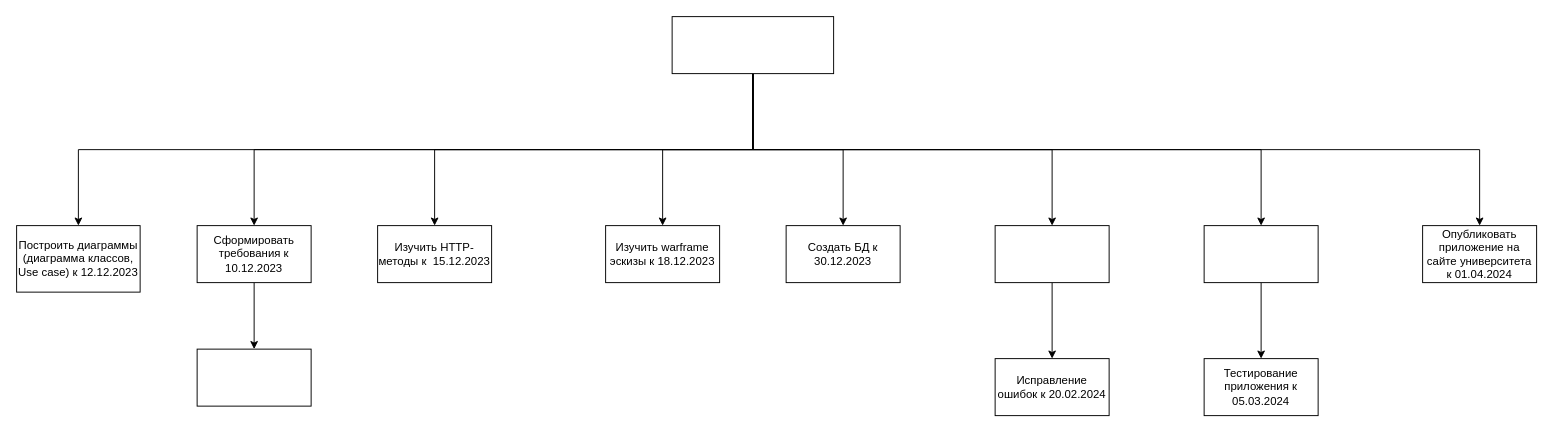
Image size: 1553x432. Some labels were removed from this diagram. The centre of each missing label's shape, as x and y in pixels:
"Показать итоговую версию приложения к 01.03.2024" goes at point (1260, 254).
"Показать тестовую версию приложения к 11.02.2024" goes at point (1051, 254).
"Разработать мобильное приложение" goes at point (752, 45).
"Сформировать ТЗ к 12.12.2023" goes at point (253, 377).
